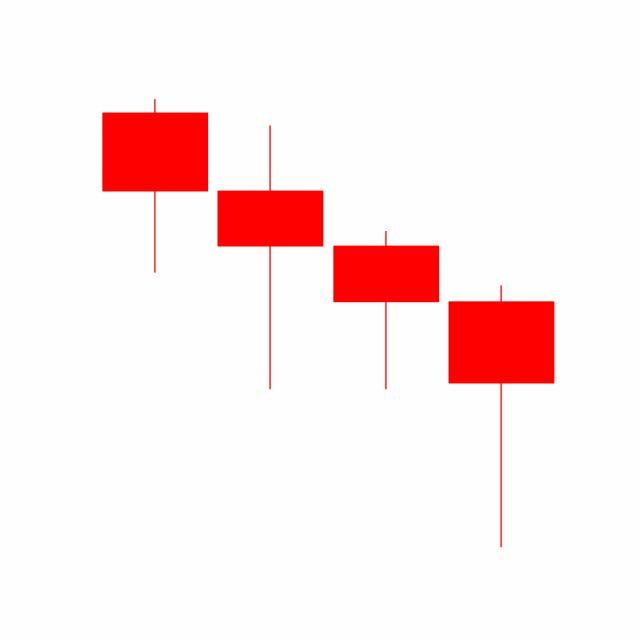Hammer: (444, 283, 560, 552)
